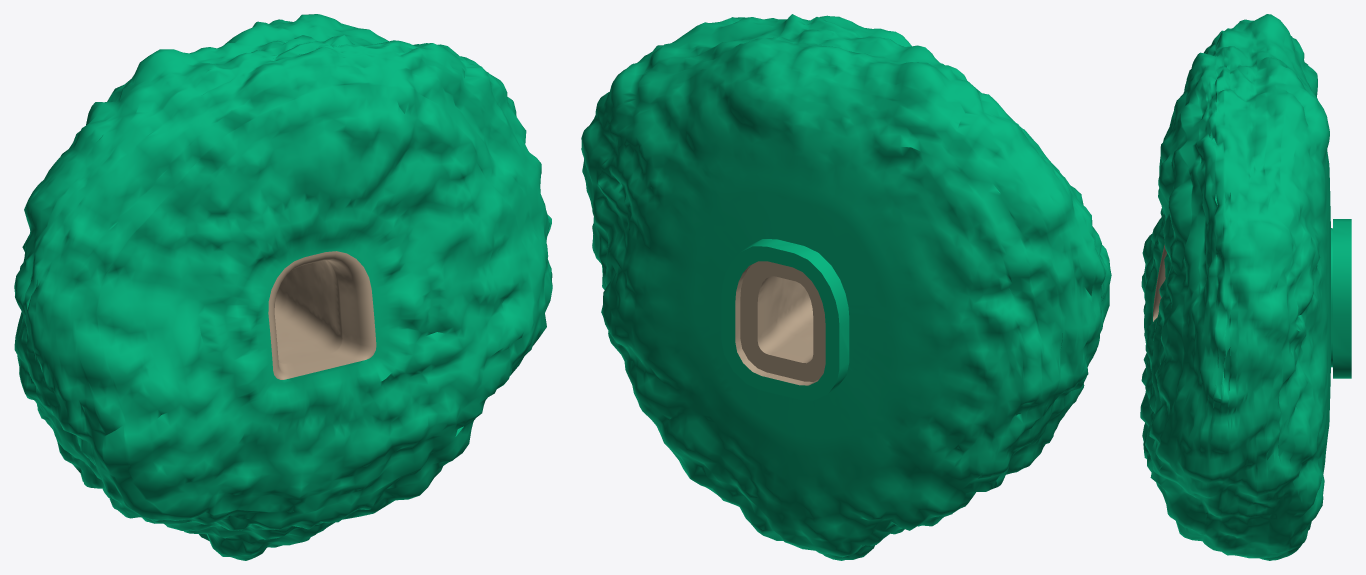
File: TT_Entry_Horizontal.fbx
3 views of the same model, side by side, from view 1: azimuth 30°, elevation 25°; view 2: azimuth 150°, elevation 25°; view 3: azimuth 270°, elevation 25° (orthographic). The views are drawn at different scales.
Visible parts, largest first — view 1: TT_Entry_Horizontal_LOD0; view 2: TT_Entry_Horizontal_LOD0; view 3: TT_Entry_Horizontal_LOD0.
Part boxes in pixels (<box>): TT_Entry_Horizontal_LOD0: <box>14,14,552,560</box>; TT_Entry_Horizontal_LOD0: <box>581,14,1111,560</box>; TT_Entry_Horizontal_LOD0: <box>1140,14,1351,560</box>.
Size of the model in its own units: 1494 by 1416 by 559.
